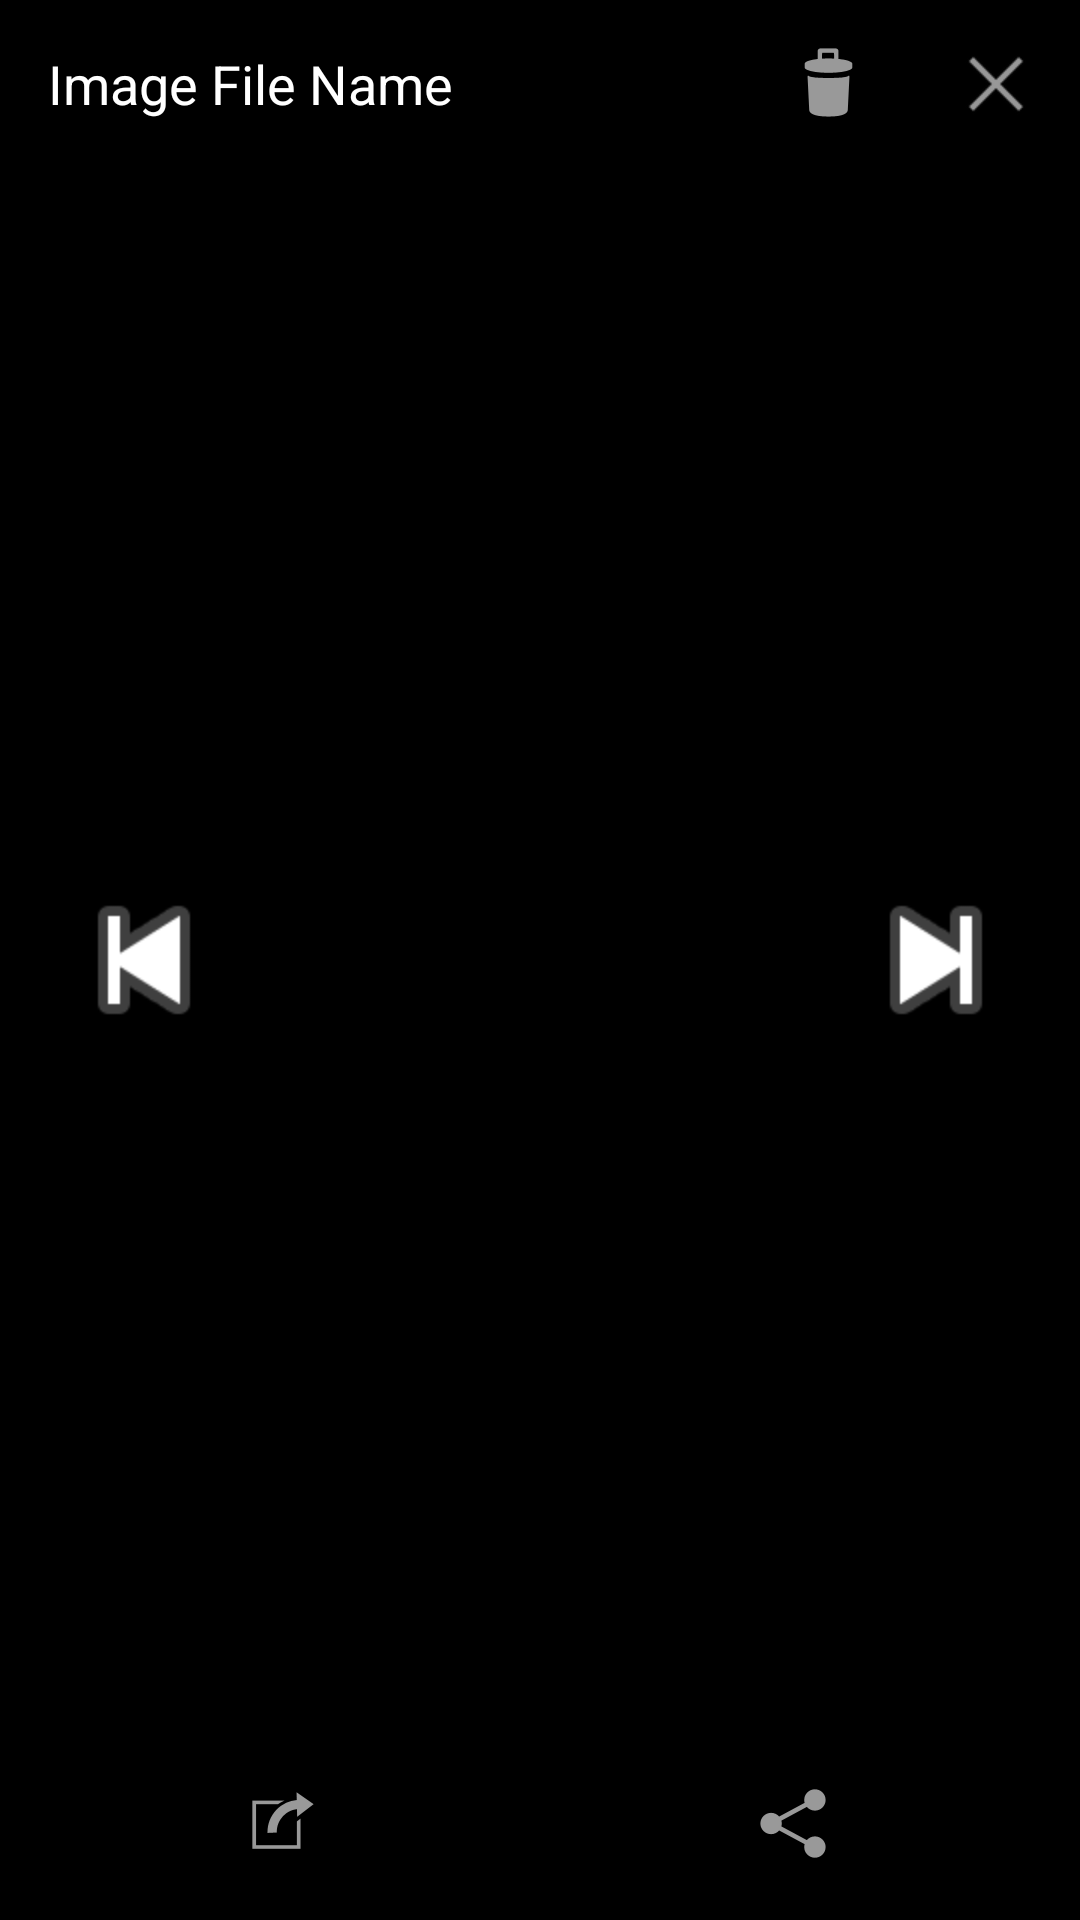

Where icons sit on this 1080×1920 app screen, as (left=x1, top=y1, right=x2, bottom=y2):
Close Image Viewer: (left=969, top=57, right=1023, bottom=111)
Delete Image: (left=804, top=48, right=853, bottom=117)
Next Image: (left=890, top=906, right=982, bottom=1014)
Open With: (left=252, top=1792, right=314, bottom=1849)
Previous Image: (left=98, top=906, right=190, bottom=1014)
Share: (left=760, top=1789, right=826, bottom=1858)
